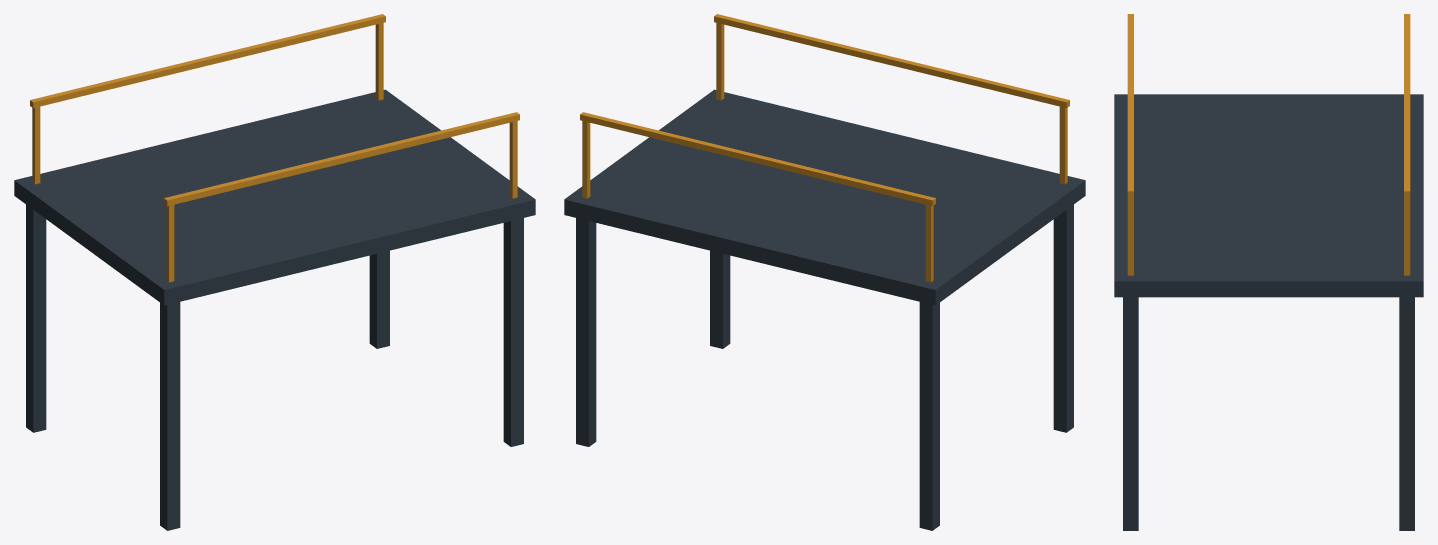
File: mezzanine.glb
The picture shows the model from 3 angles, left to right: view 1: azimuth 30°, elevation 25°; view 2: azimuth 150°, elevation 25°; view 3: azimuth 270°, elevation 25°; orthographic projection. The views are drawn at different scales.
Parts seen in each view (by area): view 1: mezzanine; view 2: mezzanine; view 3: mezzanine.
Part boxes in pixels (x1,y1,x2,y2): mezzanine: (14, 14, 535, 530); mezzanine: (564, 14, 1085, 530); mezzanine: (1114, 14, 1423, 530).
Size of the model in its own units: 4 by 3.38 by 2.8.
